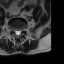CCS_normal: (16, 28, 18, 36)
LFS_stenosis: (21, 27, 23, 33)
LLS_normal: (19, 28, 21, 35)
RFS_severe_stenosis: (12, 28, 14, 33)
RLS_normal: (14, 28, 16, 34)
